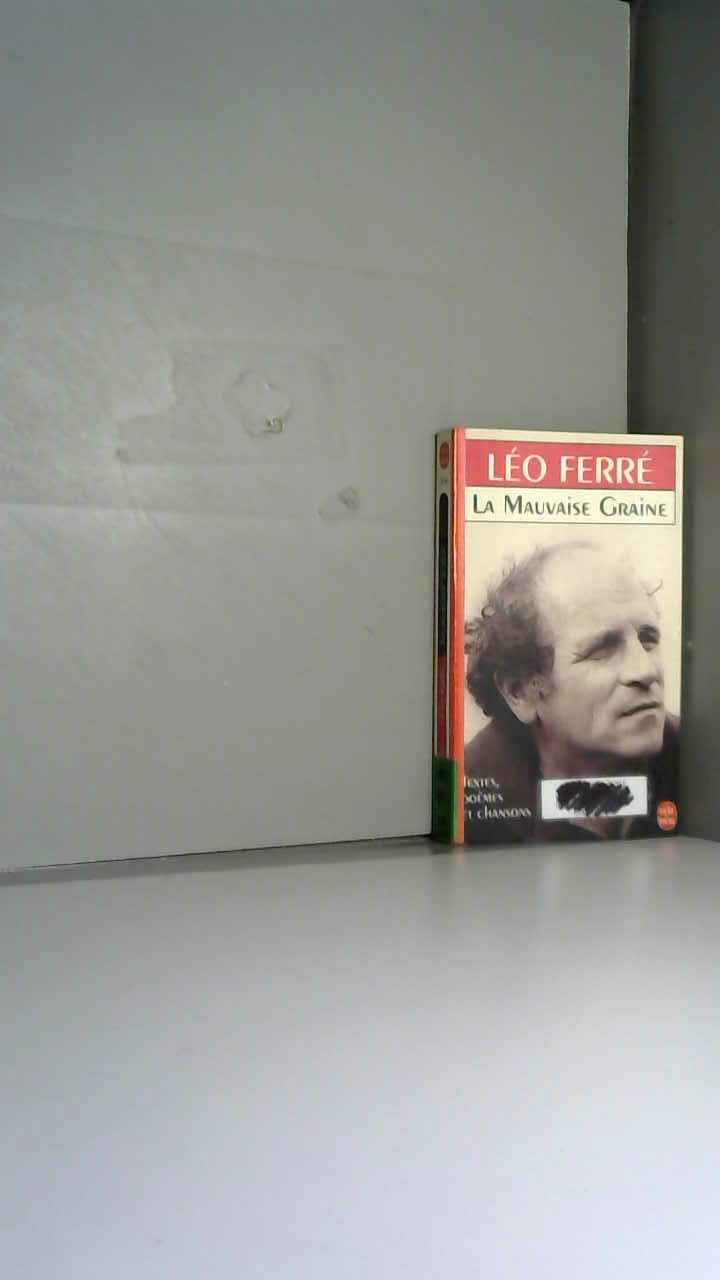book: (400, 400, 716, 898)
